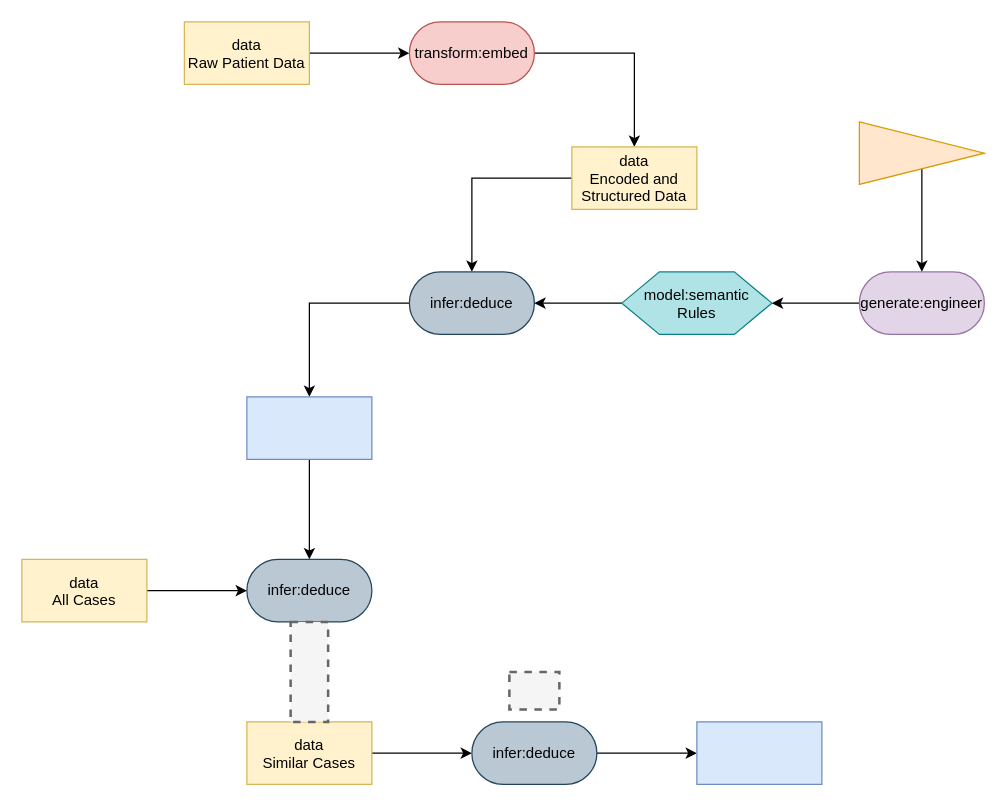
This 1006x806 diagram has some shape labels left out. The centre of each missing label's shape, as x and y in pixels:
actor Experts: pixel 921 152
error: pixel 534 690
error | | v: pixel 309 671
symbol Case with Attribute Weights: pixel 309 427
symbol Diagnosis: pixel 759 752
